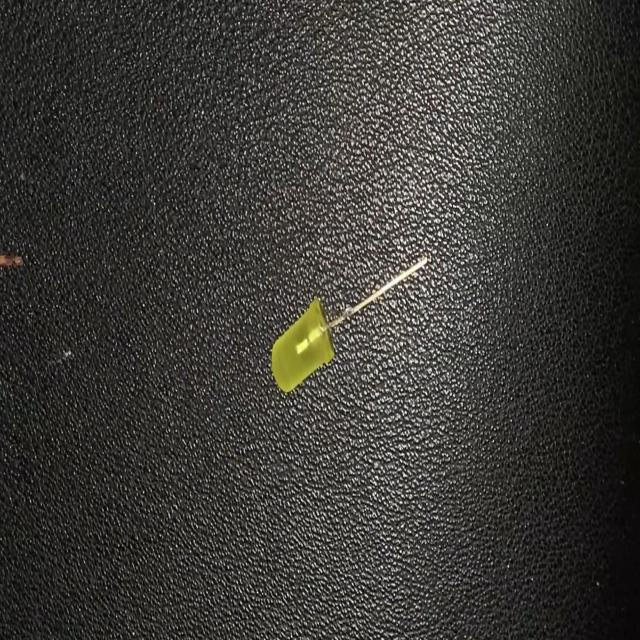missing-leg: (269, 252, 431, 401)
rust: (2, 248, 24, 277)
